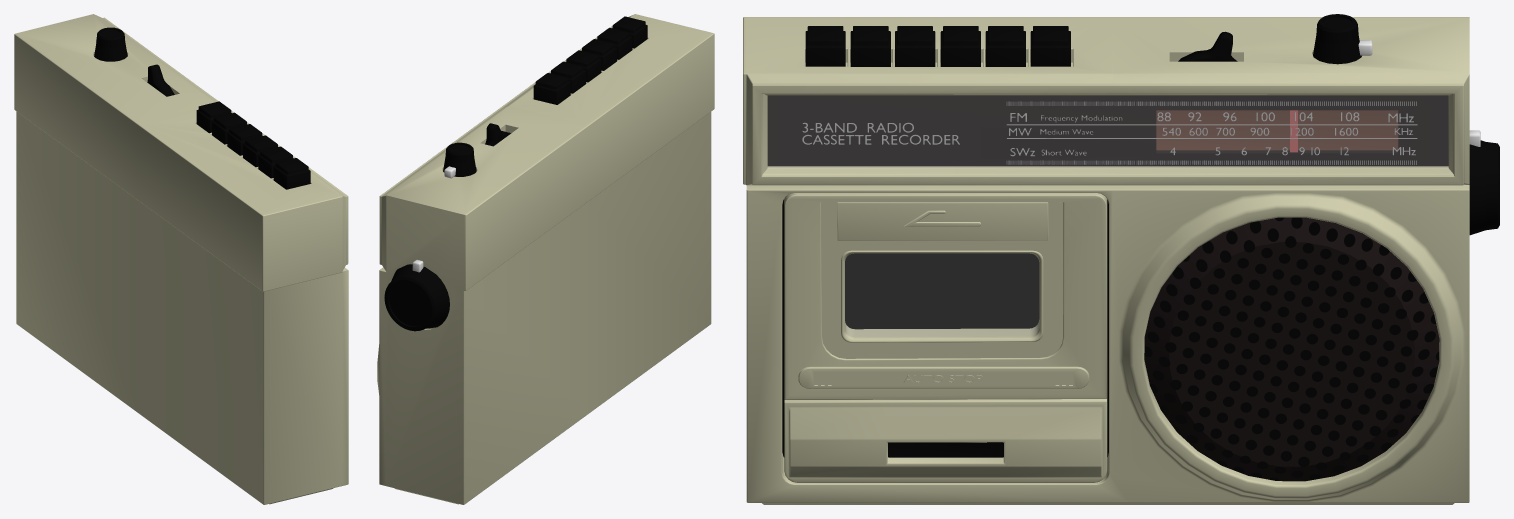
The model's file is Radio.glb.
The picture shows the model from 3 angles, left to right: view 1: azimuth 30°, elevation 25°; view 2: azimuth 150°, elevation 25°; view 3: azimuth 270°, elevation 25°; orthographic projection. The views are drawn at different scales.
Parts seen in each view (by area): view 1: Cube.012, Cylinder.005, Cube.020, Cube.024, Cube.021, Cube.026, Cube.025, Cube.023, Cylinder.003; view 2: Cube.012, Cylinder.006, Cylinder.005, Cube.026, Cube.023, Cube.020, Cube.024, Cube.025, Cube.021; view 3: Cube.012, Cube.028, Cube.027, Cube.029, Cylinder.006, Cylinder.005, Cube.020, Cube.021, Cube.023, Cube.024, Cube.025, Cube.026 (+1 smaller).
Part boxes in pixels (x1,y1,x2,y2): Cube.012: [14, 14, 348, 504]; Cylinder.005: [94, 27, 127, 61]; Cube.020: [273, 158, 310, 189]; Cube.024: [227, 124, 262, 155]; Cube.021: [258, 146, 293, 178]; Cube.026: [196, 101, 231, 133]; Cube.025: [212, 112, 246, 144]; Cube.023: [243, 135, 277, 167]; Cylinder.003: [147, 64, 174, 96]; Cube.012: [377, 14, 714, 504]; Cylinder.006: [384, 260, 449, 331]; Cylinder.005: [443, 142, 476, 178]; Cube.026: [533, 73, 570, 104]; Cube.023: [581, 39, 616, 70]; Cube.020: [612, 16, 647, 48]; Cube.024: [566, 50, 601, 82]; Cube.025: [551, 61, 585, 93]; Cube.021: [597, 27, 632, 59]; Cube.012: [743, 17, 1469, 504]; Cube.028: [784, 193, 1107, 399]; Cube.027: [784, 399, 1107, 482]; Cube.029: [845, 253, 1038, 336]; Cylinder.006: [1469, 130, 1499, 235]; Cylinder.005: [1313, 14, 1372, 64]; Cube.020: [805, 26, 845, 66]; Cube.021: [850, 26, 890, 66]; Cube.023: [895, 26, 935, 66]; Cube.024: [940, 26, 980, 66]; Cube.025: [985, 26, 1025, 66]; Cube.026: [1030, 26, 1070, 66].
Size of the model in its own units: 0.0612 by 0.1905 by 0.2809.
10 materials, 2 textured.
